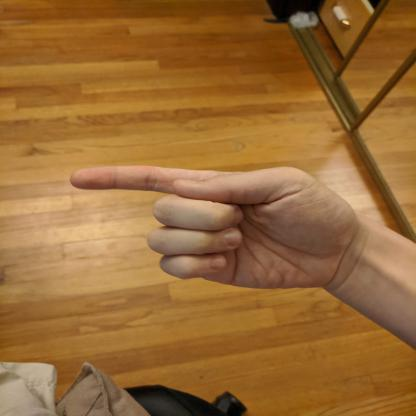G: (66, 162, 360, 293)
